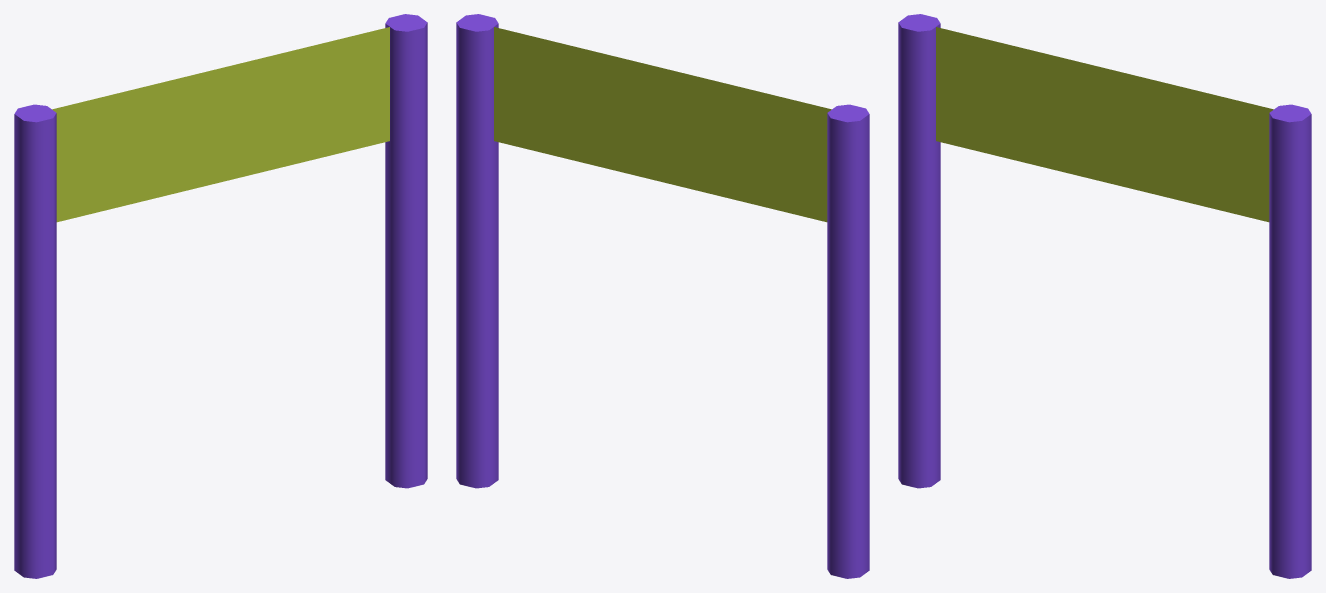
Rendered from banner_high.dae.
3 views of the same model, side by side, from view 1: azimuth 30°, elevation 25°; view 2: azimuth 150°, elevation 25°; view 3: azimuth 330°, elevation 25° (orthographic).
Visible parts, largest first — view 1: banner_high; view 2: banner_high; view 3: banner_high.
Boxes of the visible parts, <box> form: banner_high: <box>14,14,427,578</box>; banner_high: <box>456,14,869,578</box>; banner_high: <box>898,14,1311,578</box>.
Bounding box in the file's own units: 0.925 × 0.075 × 1.
